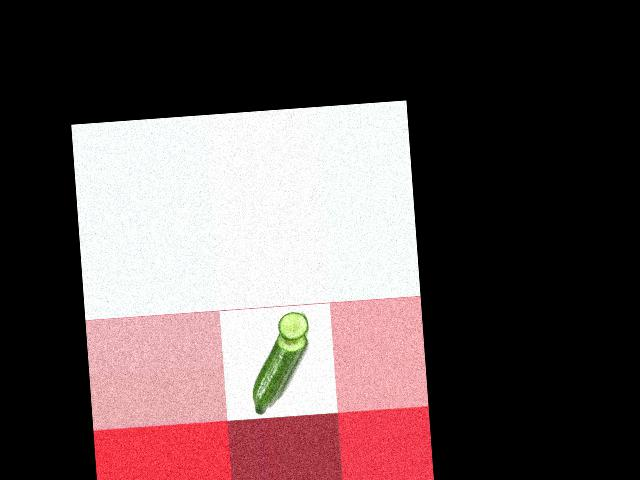cucumber: (248, 330, 312, 414)
